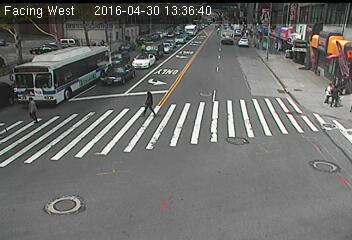pos: (139, 89, 160, 117), (19, 96, 39, 123), (321, 80, 340, 105), (327, 83, 345, 108)
